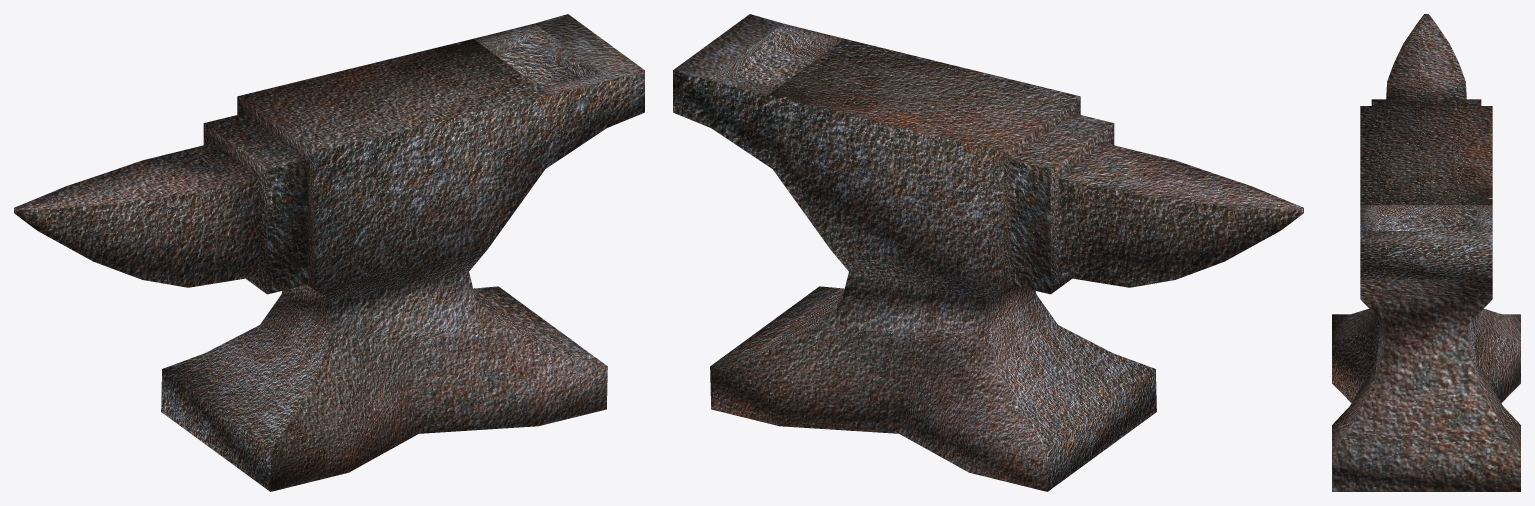
Rendered from Anvil.glb.
3 renders of one model, left to right at view 1: azimuth 30°, elevation 25°; view 2: azimuth 150°, elevation 25°; view 3: azimuth 270°, elevation 25°, orthographic. The views are drawn at different scales.
Visible parts, largest first — view 1: Anvil; view 2: Anvil; view 3: Anvil.
Part boxes in pixels (x1,y1,x2,y2): Anvil: (14, 14, 644, 491); Anvil: (673, 14, 1303, 491); Anvil: (1332, 14, 1520, 491).
Bounding box in the file's own units: 1.67 × 0.8474 × 0.5341.
1 material, 1 textured.
